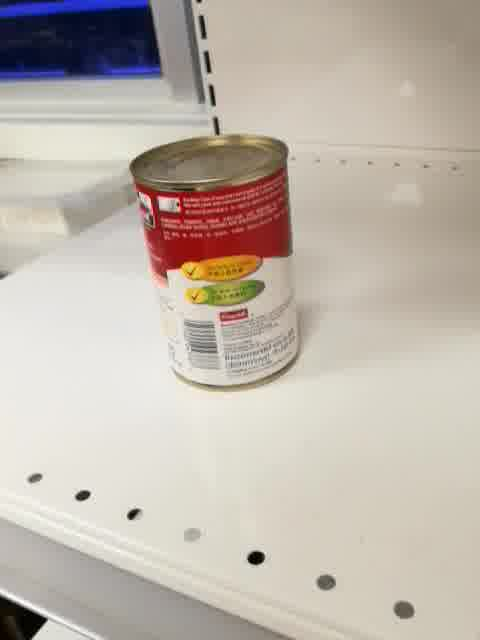tomatosoup: (127, 130, 306, 394)
